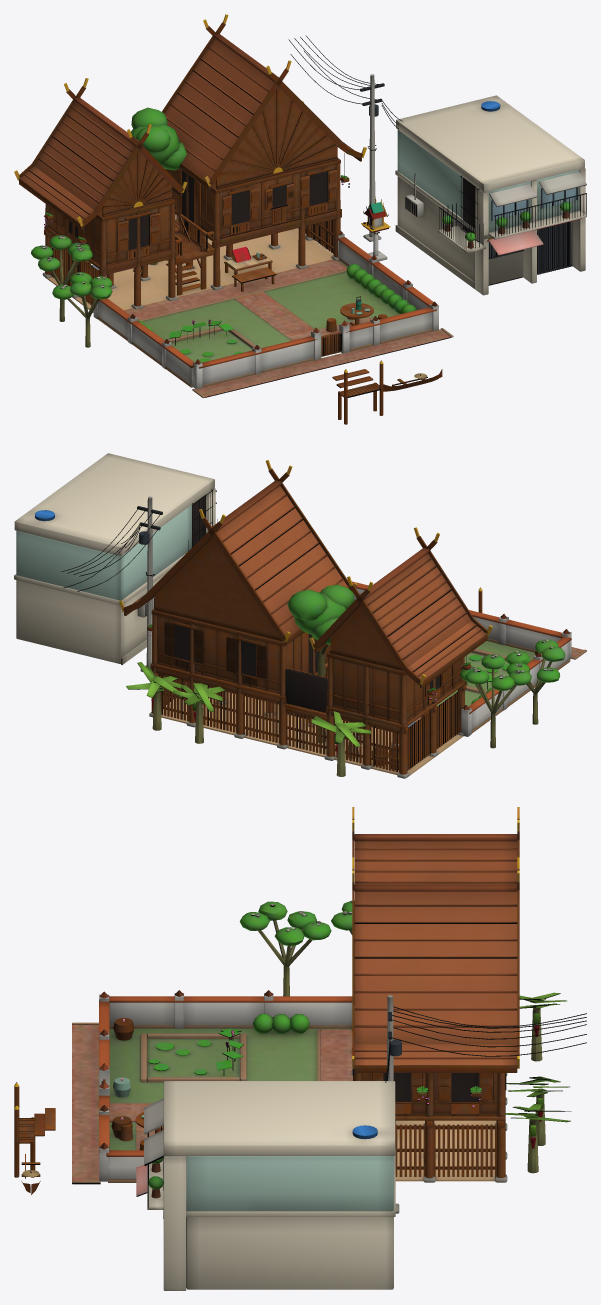
The model's file is valora-house-th.glb.
3 views of the same model, one above another, from view 1: azimuth 30°, elevation 25°; view 2: azimuth 150°, elevation 25°; view 3: azimuth 270°, elevation 25° (orthographic). The views are drawn at different scales.
Parts seen in each view (by area): view 1: valora-house-th; view 2: valora-house-th; view 3: valora-house-th.
Boxes of the visible parts, x1,y1,x2,y2 form: valora-house-th: (14, 14, 586, 424); valora-house-th: (14, 453, 586, 778); valora-house-th: (14, 807, 586, 1290).
Bounding box in the file's own units: 20.25 × 10.16 × 16.03.
40 materials, 40 textured.
